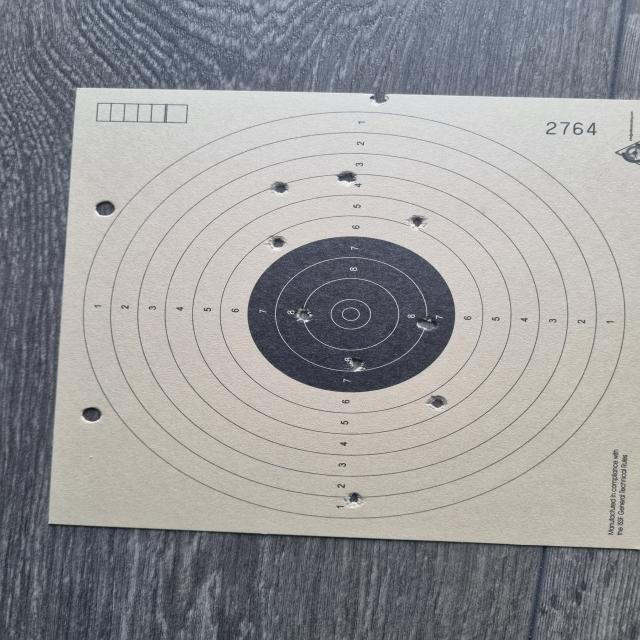10: (296, 308, 312, 322)
3: (344, 492, 364, 506)
5: (336, 170, 357, 183), (270, 181, 289, 194)
6: (426, 394, 448, 410)
7: (408, 214, 428, 230), (268, 235, 287, 249)
8: (428, 318, 438, 332)
9: (349, 357, 365, 372), (416, 318, 427, 330)
Black Contour: (246, 235, 457, 392)
Target: (86, 110, 626, 519)
hole: (368, 94, 389, 105)
